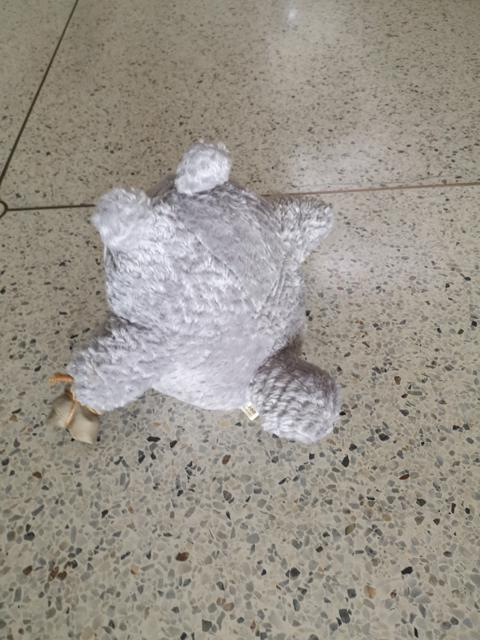totoro: (40, 137, 346, 459)
